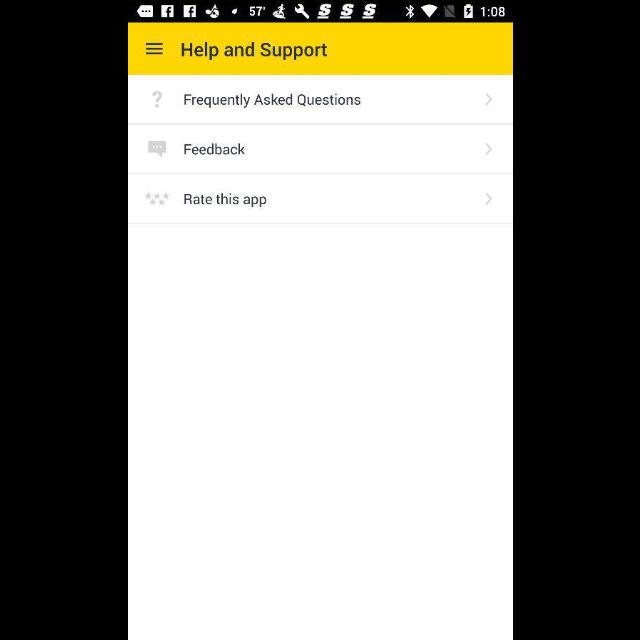icon: (148, 140, 166, 158), (146, 43, 162, 55), (152, 92, 162, 108), (484, 193, 492, 205), (484, 143, 492, 155), (484, 94, 492, 106)
image: (145, 192, 169, 206)
text: (181, 43, 327, 61), (184, 94, 360, 108), (184, 193, 266, 207), (184, 143, 244, 155)
toolbar: (128, 24, 512, 76)
uppertaskbar: (128, 1, 512, 23)
